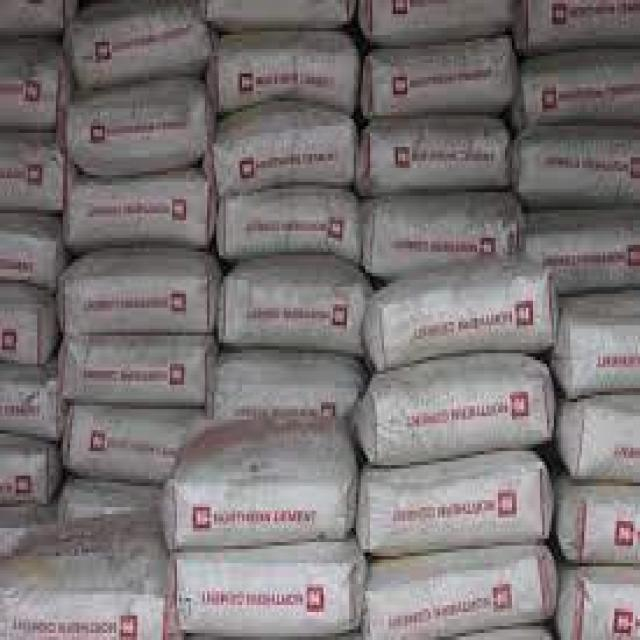gunny_bag: (172, 413, 354, 548), (1, 508, 172, 640), (375, 543, 553, 640), (368, 458, 543, 555), (372, 371, 543, 468), (379, 273, 546, 363), (218, 260, 366, 356), (61, 248, 215, 333), (188, 548, 351, 623), (366, 197, 518, 276), (75, 5, 206, 95), (60, 338, 209, 411), (372, 37, 511, 115), (58, 408, 183, 493), (369, 118, 508, 190), (63, 180, 214, 246), (224, 190, 358, 263), (218, 43, 350, 113), (75, 97, 201, 167), (524, 128, 638, 203), (526, 48, 635, 125), (225, 123, 348, 188), (536, 221, 638, 296), (576, 401, 639, 490), (572, 320, 639, 395), (572, 488, 640, 558), (0, 147, 64, 218), (0, 218, 57, 296), (0, 375, 60, 438), (2, 445, 54, 503), (0, 301, 41, 365)
